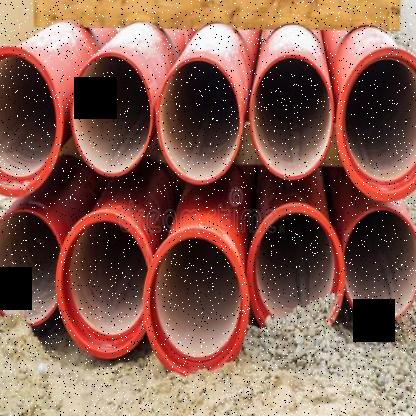pipe: (142, 228, 249, 374), (56, 210, 152, 358), (335, 46, 416, 202), (247, 202, 345, 328), (156, 56, 242, 185), (68, 52, 154, 177), (250, 54, 334, 180), (0, 45, 62, 197), (342, 207, 416, 325), (0, 208, 61, 325)
